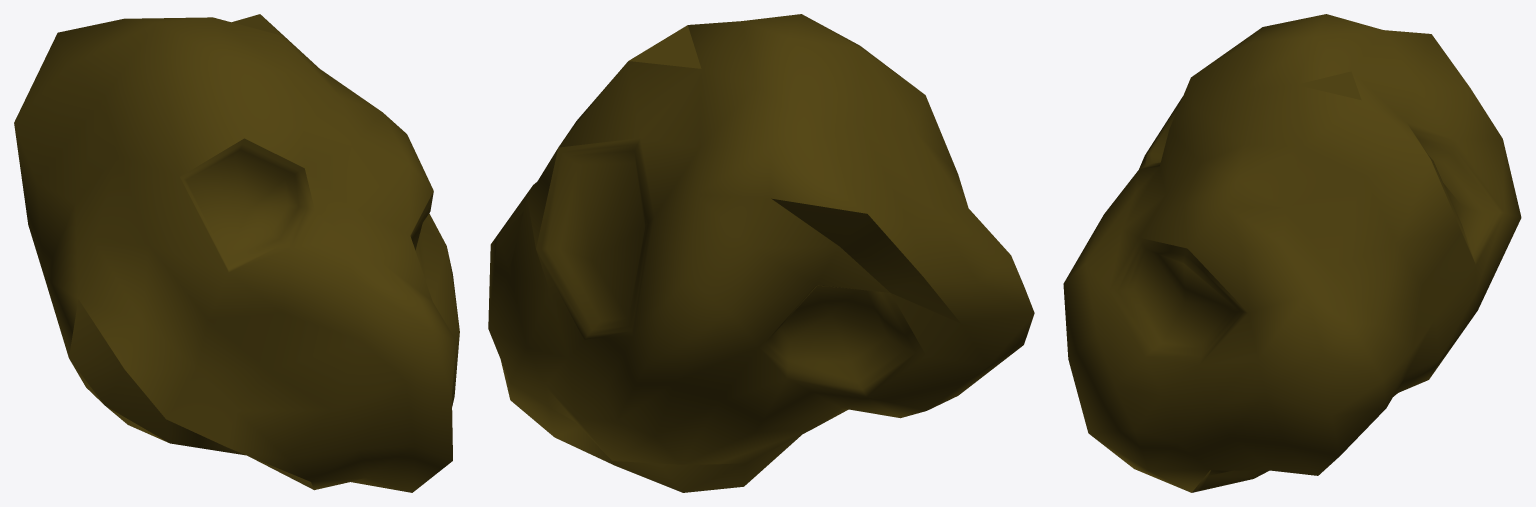
Rendered from small copper meteor.fbx.
The picture shows the model from 3 angles, left to right: view 1: azimuth 30°, elevation 25°; view 2: azimuth 150°, elevation 25°; view 3: azimuth 270°, elevation 25°; orthographic projection. The views are drawn at different scales.
Visible parts, largest first — view 1: GeoSphere004; view 2: GeoSphere004; view 3: GeoSphere004.
Boxes of the visible parts, x1=… form: GeoSphere004: x1=14, y1=14, x2=459, y2=492; GeoSphere004: x1=488, y1=14, x2=1034, y2=492; GeoSphere004: x1=1063, y1=14, x2=1521, y2=492.
Size of the model in its own units: 14.45 by 14.98 by 15.17.
